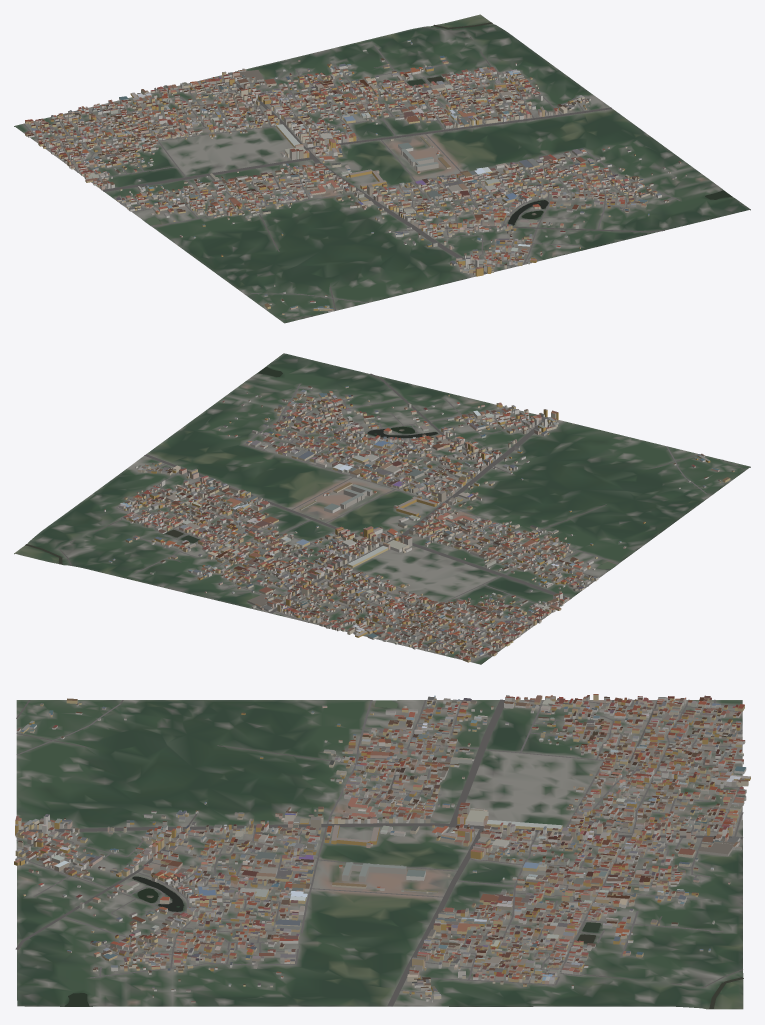
3 views of the same model, one above another, from view 1: azimuth 30°, elevation 25°; view 2: azimuth 150°, elevation 25°; view 3: azimuth 270°, elevation 25° (orthographic). The views are drawn at different scales.
Parts seen in each view (by area): view 1: ground, buildings, roads, water; view 2: ground, buildings, roads, water; view 3: ground, buildings, roads, water.
Boxes of the visible parts, bbox=[...] form: ground: bbox=[14, 14, 750, 323]; buildings: bbox=[25, 40, 686, 314]; roads: bbox=[23, 27, 679, 319]; water: bbox=[145, 22, 732, 225]; ground: bbox=[14, 353, 750, 664]; buildings: bbox=[104, 386, 734, 662]; roads: bbox=[58, 373, 745, 662]; water: bbox=[25, 366, 616, 569]; ground: bbox=[16, 700, 743, 1009]; buildings: bbox=[14, 694, 750, 1003]; roads: bbox=[15, 699, 743, 1006]; water: bbox=[64, 700, 743, 1008].
Size of the model in its own units: 1412 by 37.4 by 1423.
